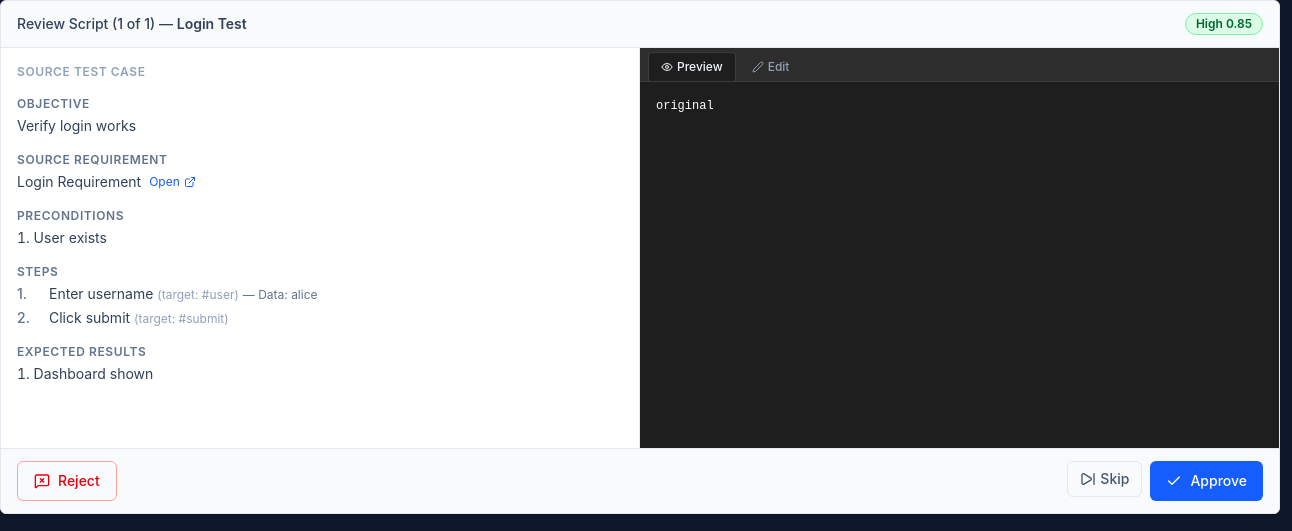
Test case: SarahScriptReviewPanel › 13.6 AC1 — Edit tab + per-script edit retention › unsaved-changes indicator appears after typing in Edit pane
Click the button with aria-label "Edit tab" at (771, 66), box [740,52,802,80]
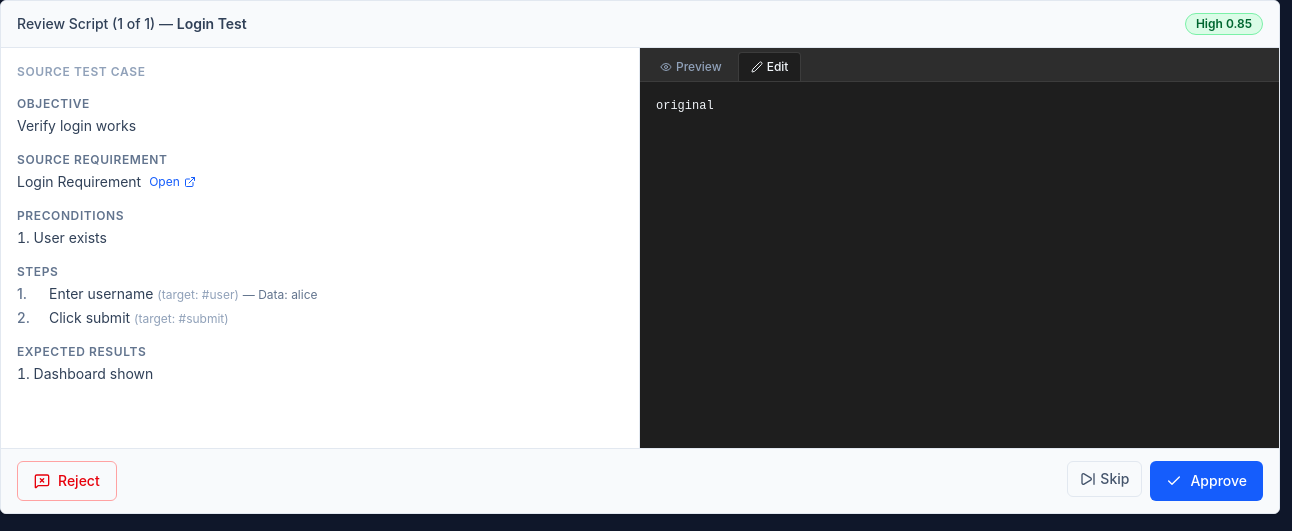
Replace the text in the text box named "Edit script content" with "modified" at (960, 265), box [640,82,1279,448]
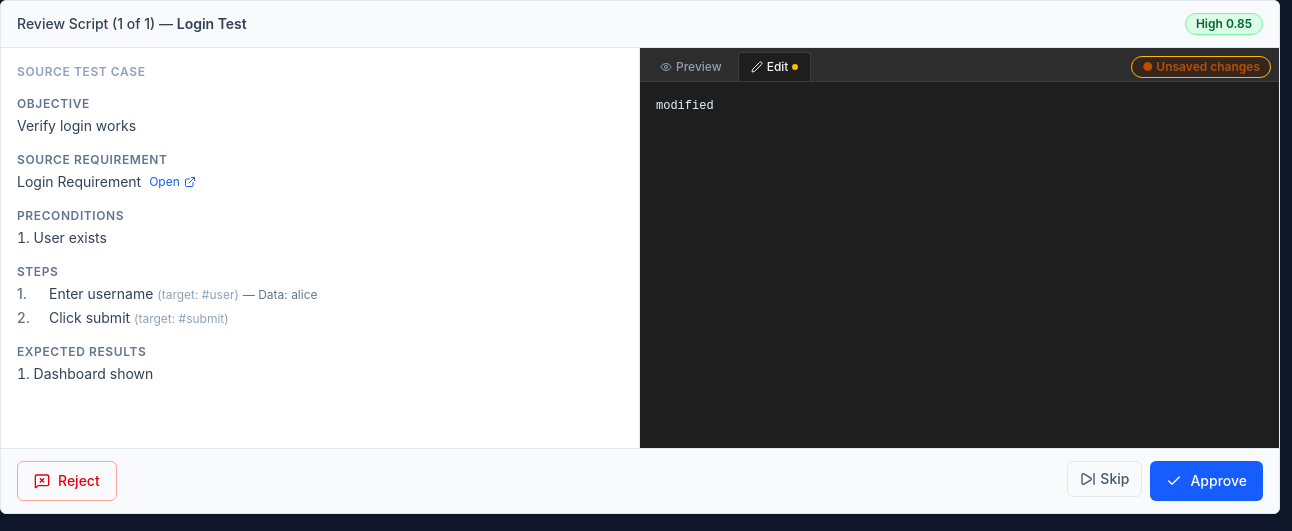
expect the text "● Unsaved changes" is shown: met, box [1131,56,1271,78]
